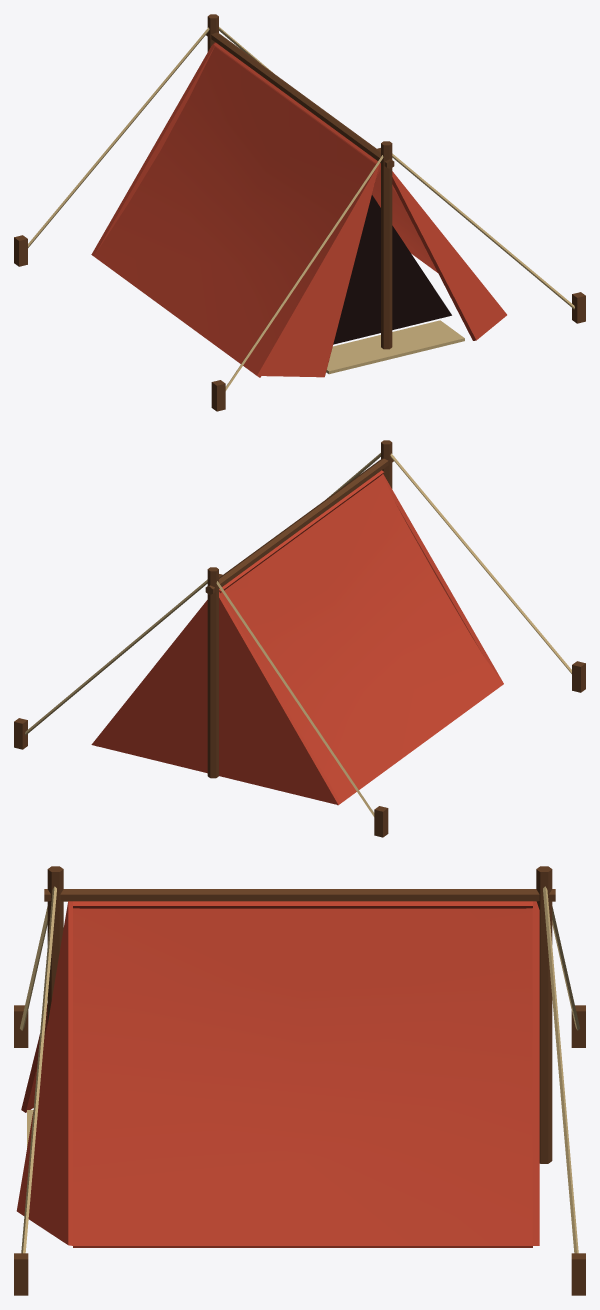
Rendered from Tent.fbx.
3 views of the same model, one above another, from view 1: azimuth 30°, elevation 25°; view 2: azimuth 150°, elevation 25°; view 3: azimuth 270°, elevation 25° (orthographic). The views are drawn at different scales.
Parts seen in each view (by area): view 1: Cloth, Gloom, Rope, WoodDark; view 2: Cloth, WoodDark, Rope; view 3: Cloth, WoodDark, Rope.
Boxes of the visible parts, x1,y1,x2,y2 form: Cloth: [91, 42, 506, 377]; Gloom: [333, 195, 451, 344]; Rope: [28, 27, 574, 390]; WoodDark: [14, 14, 585, 411]; Cloth: [91, 470, 503, 805]; WoodDark: [14, 440, 585, 837]; Rope: [25, 453, 571, 816]; Cloth: [16, 901, 539, 1247]; WoodDark: [14, 866, 585, 1295]; Rope: [20, 886, 579, 1253].
Bounding box in the file's own units: 10.45 × 5.75 × 9.95.
